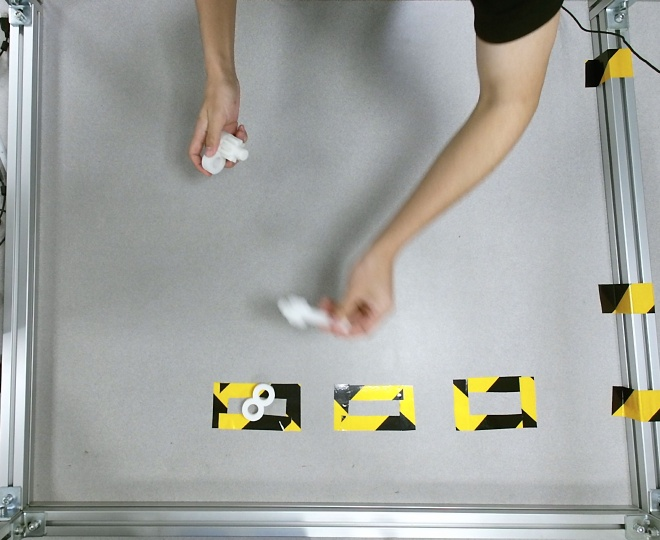stage_2: (201, 131, 249, 175)
